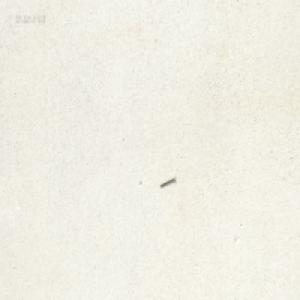Bolt: (159, 175, 174, 187)
